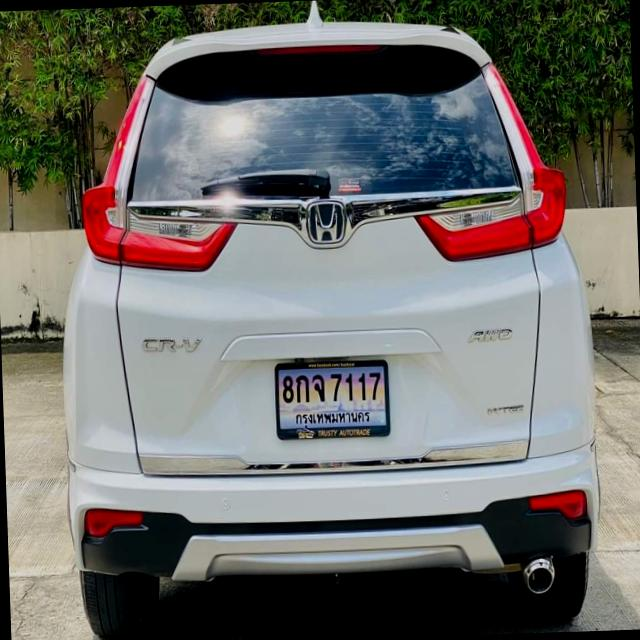license_plate: (274, 357, 393, 442)
